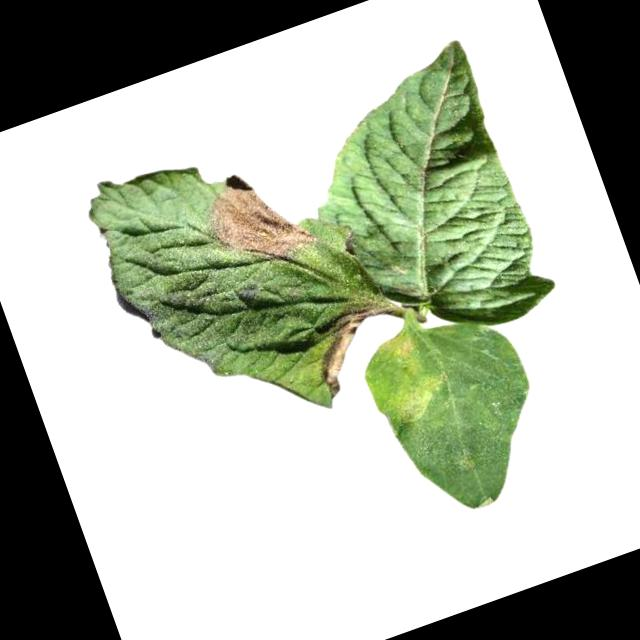Late_blight: (193, 155, 318, 281), (353, 322, 454, 435), (299, 298, 402, 401)
healthy: (277, 37, 563, 372)
